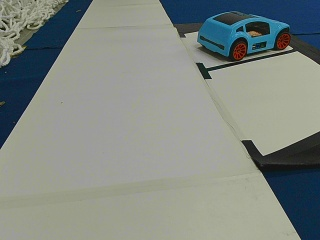car: (197, 12, 291, 60)
